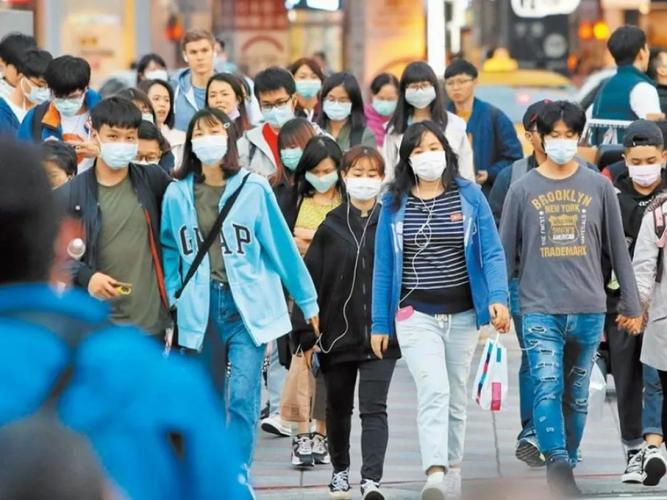mask: (406, 129, 448, 181), (190, 113, 228, 166)
